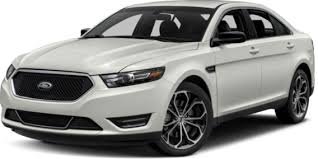Ford: (2, 2, 316, 155)
